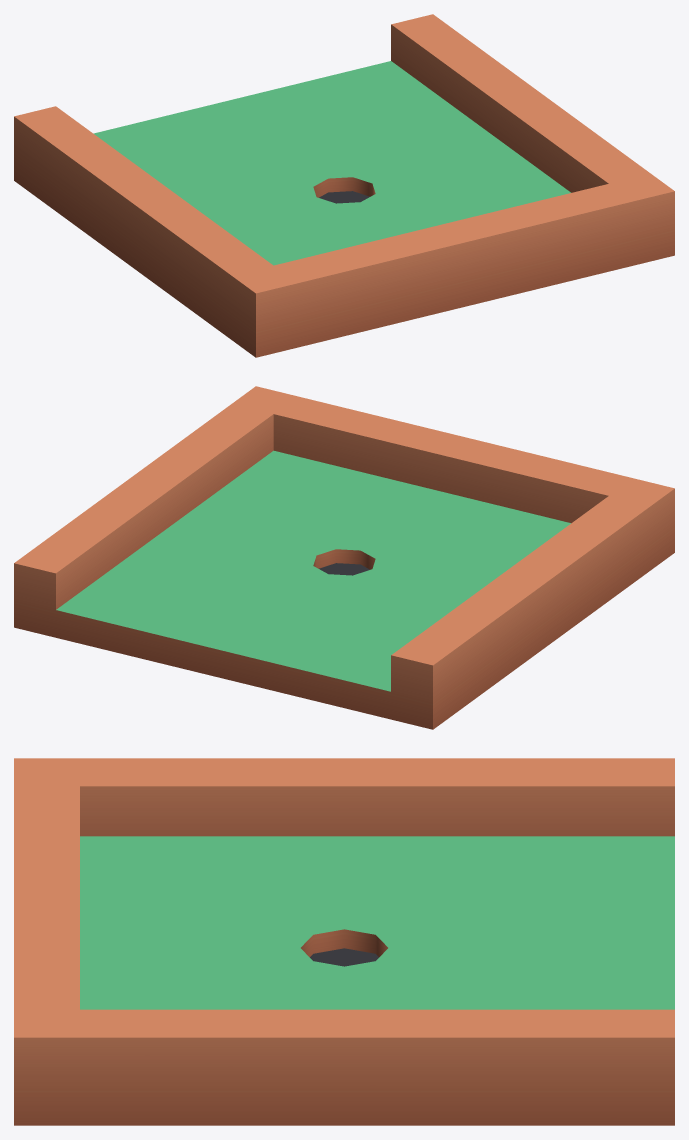
The model's file is hole-square.glb.
3 views of the same model, one above another, from view 1: azimuth 30°, elevation 25°; view 2: azimuth 150°, elevation 25°; view 3: azimuth 270°, elevation 25° (orthographic). The views are drawn at different scales.
Parts seen in each view (by area): view 1: hole-square; view 2: hole-square; view 3: hole-square.
Part boxes in pixels (x1,y1,x2,y2): hole-square: (14, 14, 674, 357); hole-square: (14, 386, 674, 729); hole-square: (14, 758, 674, 1125).
Size of the model in its own units: 0.9999 by 0.1467 by 0.9999.
1 material, 1 textured.
